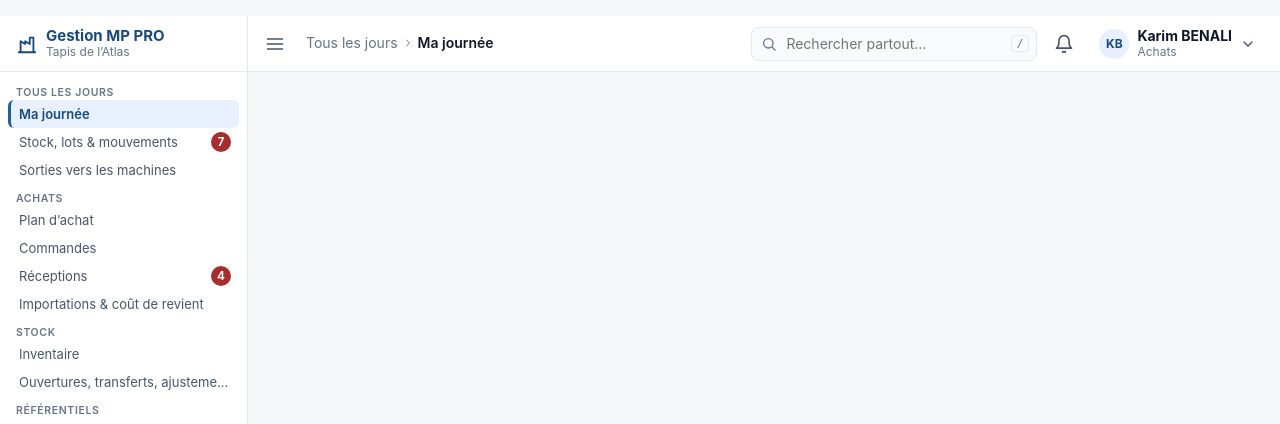
Test: Coque › le menu se replie et le poste s’en souvient
(page scrolled)
Click the button named "Masquer le menu". click: (275, 44)
box: [256,24,294,62]
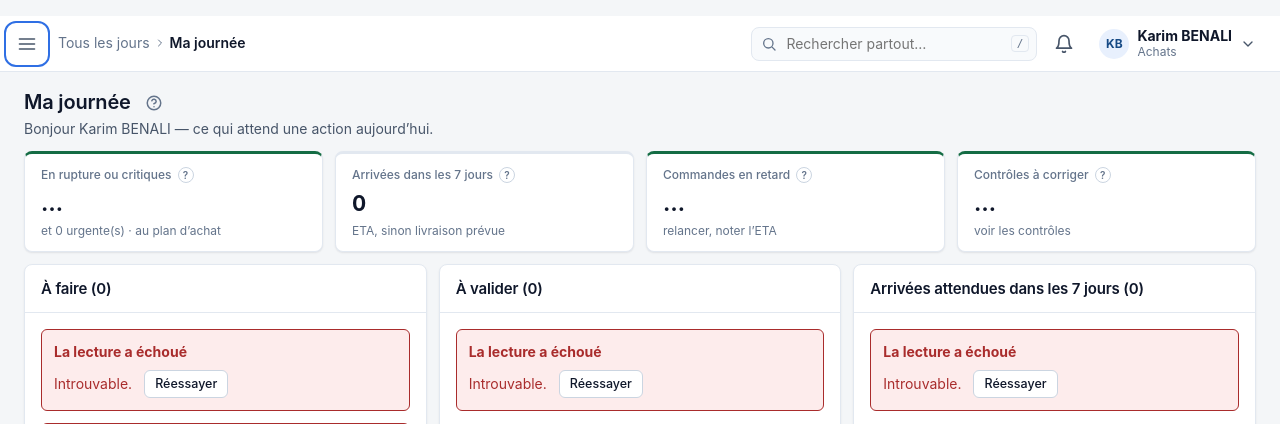
expect the button named "Afficher le menu" is collapsed: met, box [8,24,46,62]
